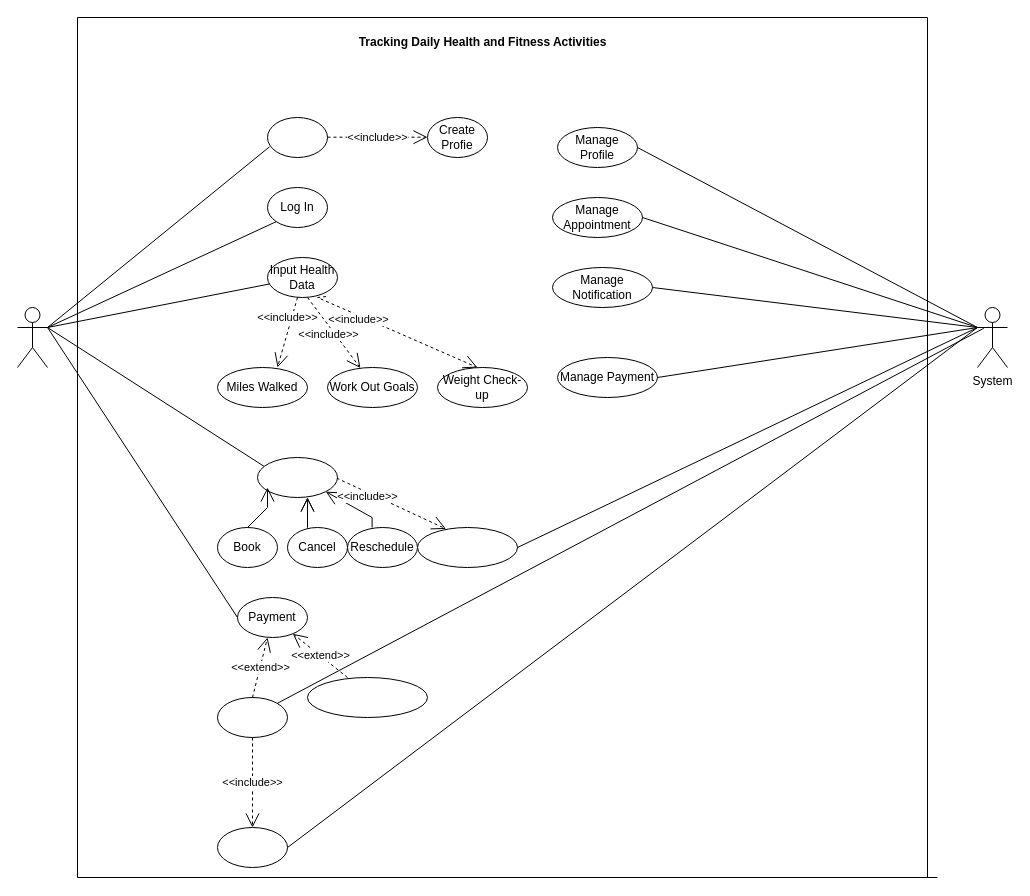
This 1030x896 diagram has some shape labels left out. The box of each missing label's shape, as (x1, y1, x2, y2) in pixels:
Appointment: (256, 456, 338, 498)
Card/MobileBanking: (306, 676, 428, 718)
Generate Bill: (216, 696, 288, 738)
Payment Receipt: (216, 826, 288, 868)
Register: (266, 116, 328, 158)
Send NotificationMail: (416, 526, 518, 568)
User: (16, 306, 48, 368)
